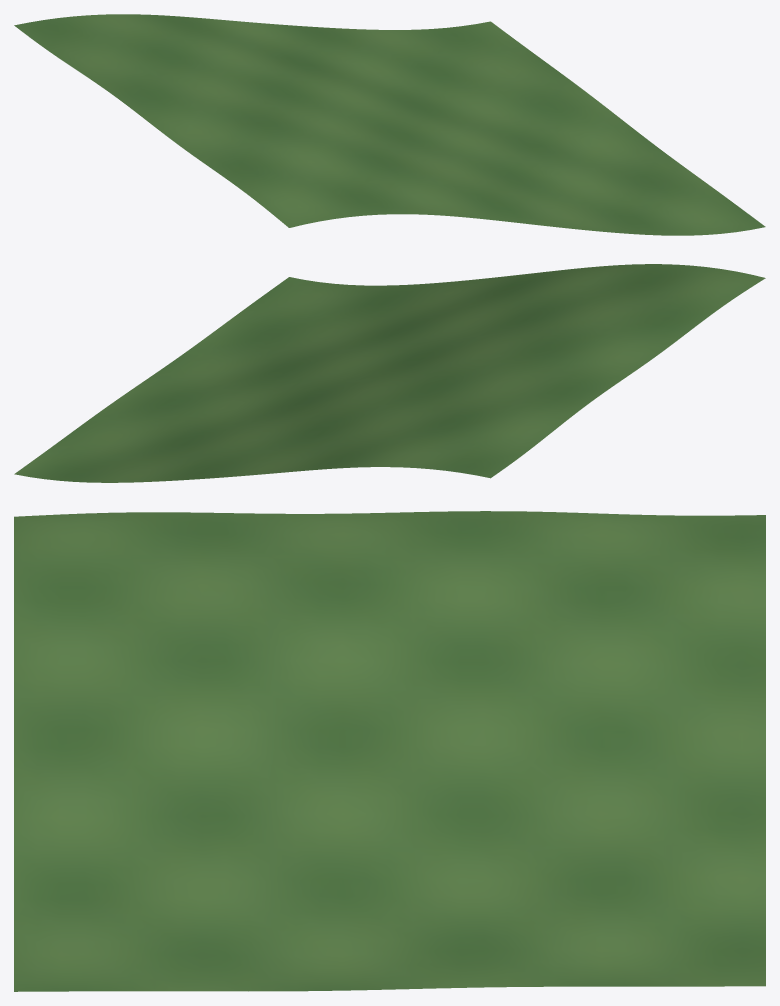
The model's file is chunk_0_6.glb.
3 renders of one model, top to bottom at view 1: azimuth 30°, elevation 25°; view 2: azimuth 150°, elevation 25°; view 3: azimuth 270°, elevation 25°, orthographic. The views are drawn at different scales.
Size of the model in its own units: 512 by 122 by 512.
